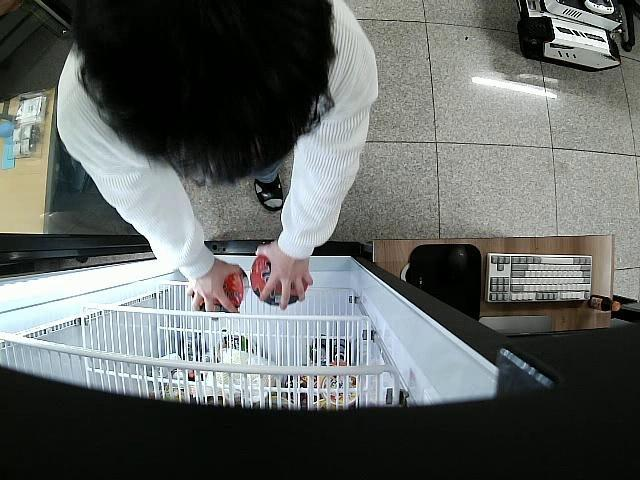01_ShinRamen_L: (248, 255, 306, 306), (192, 265, 248, 312)
